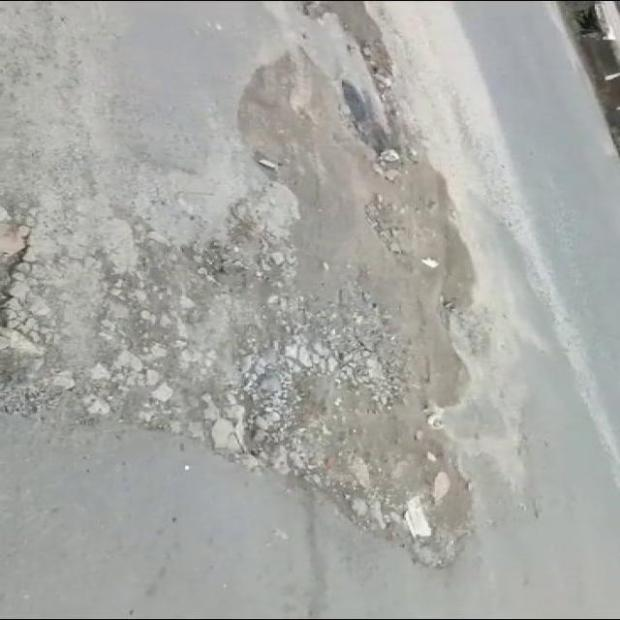lubang: (358, 0, 363, 3)
